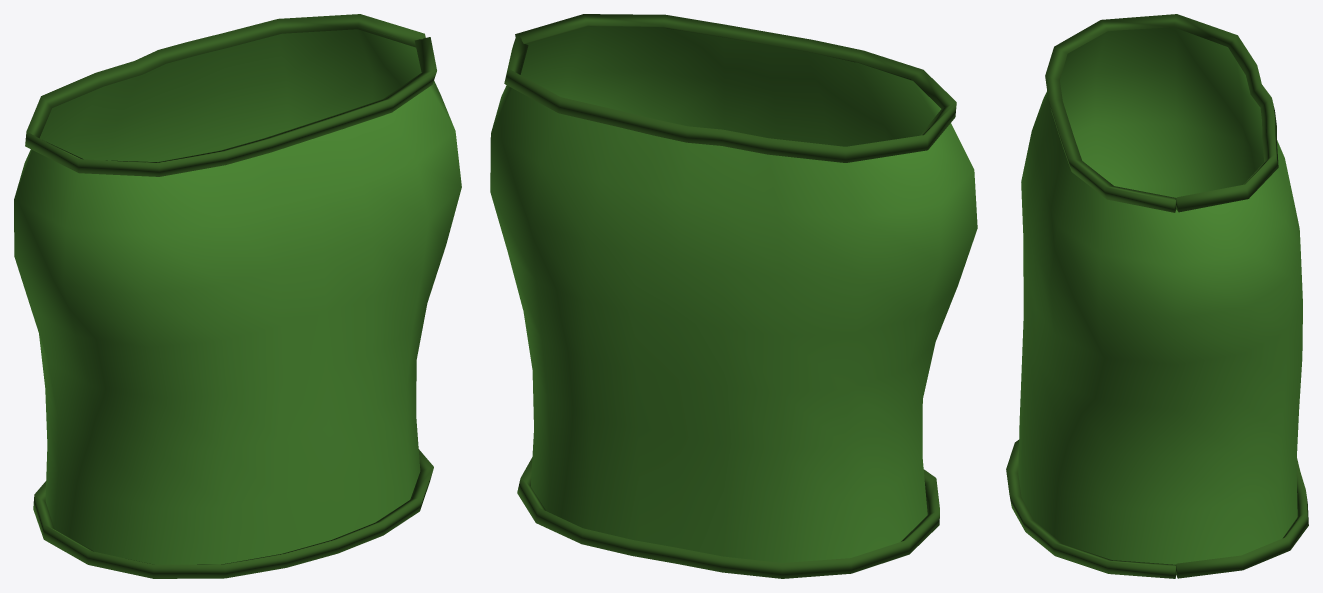
File: jungle_armor_chest.glb
3 views of the same model, side by side, from view 1: azimuth 30°, elevation 25°; view 2: azimuth 150°, elevation 25°; view 3: azimuth 270°, elevation 25° (orthographic). The views are drawn at different scales.
Visible parts, largest first — view 1: jungle_armor_chest; view 2: jungle_armor_chest; view 3: jungle_armor_chest.
Boxes of the visible parts, x1,y1,x2,y2 form: jungle_armor_chest: (14,14,461,578); jungle_armor_chest: (490,14,977,578); jungle_armor_chest: (1006,14,1308,578).
Size of the model in its own units: 0.4168 by 0.3859 by 0.2708.
